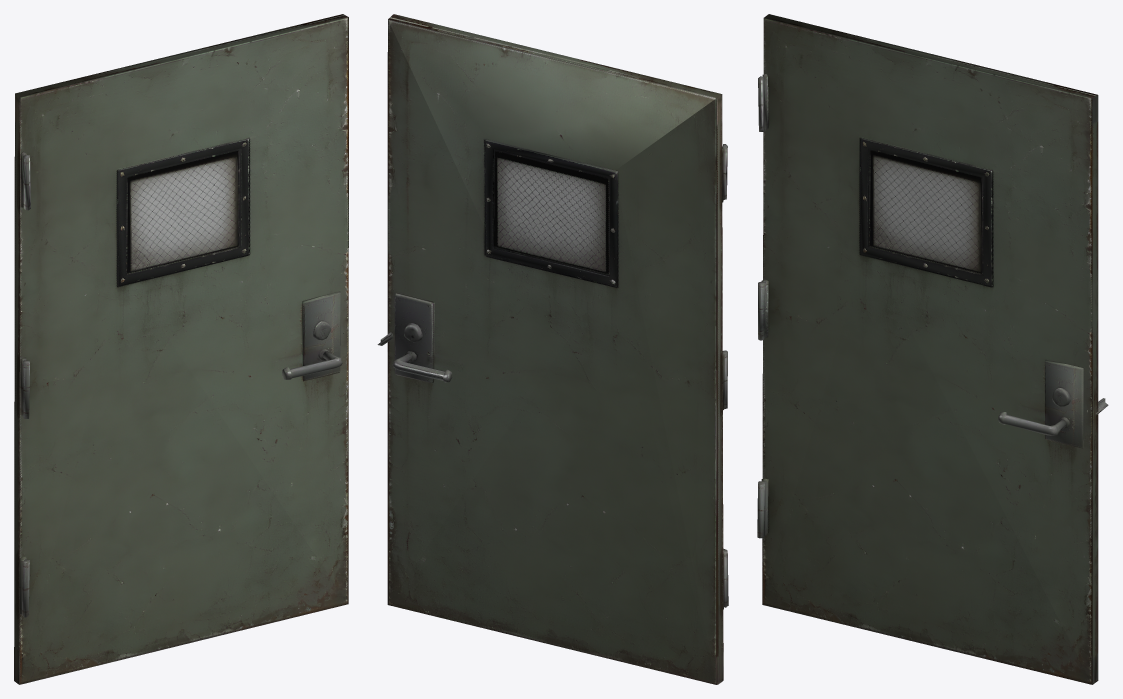
File: door4.fbx
3 renders of one model, left to right at view 1: azimuth 30°, elevation 25°; view 2: azimuth 150°, elevation 25°; view 3: azimuth 330°, elevation 25°, orthographic.
Parts seen in each view (by area): view 1: mesh_node; view 2: mesh_node; view 3: mesh_node.
Part boxes in pixels (x1=…): mesh_node: x1=14, y1=14, x2=348, y2=684; mesh_node: x1=377, y1=14, x2=728, y2=684; mesh_node: x1=757, y1=14, x2=1108, y2=684.
Bounding box in the file's own units: 58.98 × 100 × 13.04.
Materials: 1 (1 with a texture image).
